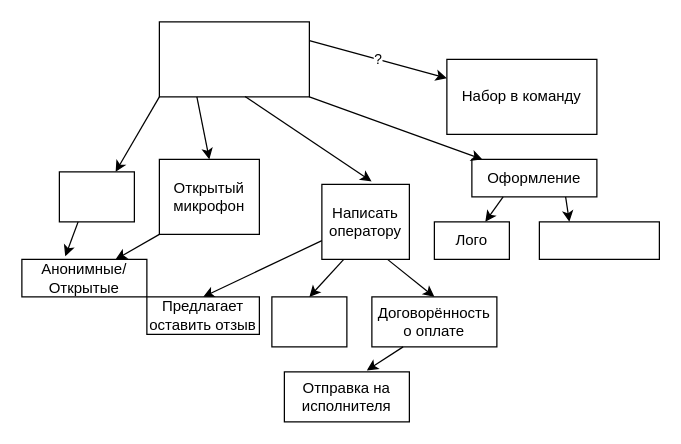
Some shapes in this 681 by 444 pixel diagram are drawn without their labels. Here are the shapes that lost their labels. From the top down, the centre of each, then its label:
At (x=233, y=59): "Телеграм бот".
At (x=96, y=196): "Отзывы".
At (x=598, y=240): "Описание бота".
At (x=309, y=321): "Девушка".
